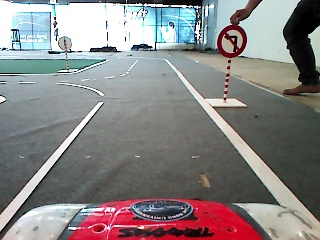ban: (216, 24, 250, 60)
